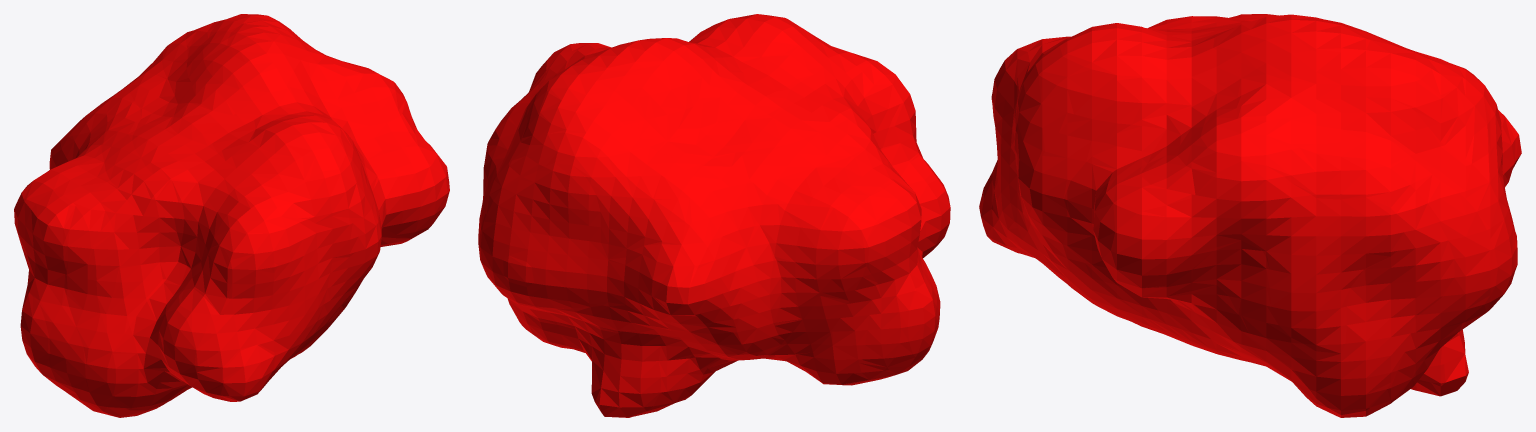
File: pncC_coarse.dae
3 renders of one model, left to right at view 1: azimuth 30°, elevation 25°; view 2: azimuth 150°, elevation 25°; view 3: azimuth 270°, elevation 25°, orthographic. The views are drawn at different scales.
Visible parts, largest first — view 1: pncC; view 2: pncC; view 3: pncC.
Boxes of the visible parts, x1=… form: pncC: x1=14, y1=14, x2=449, y2=417; pncC: x1=478, y1=14, x2=950, y2=417; pncC: x1=979, y1=14, x2=1521, y2=417.
Size of the model in its own units: 45.22 by 35.2 by 44.74.
